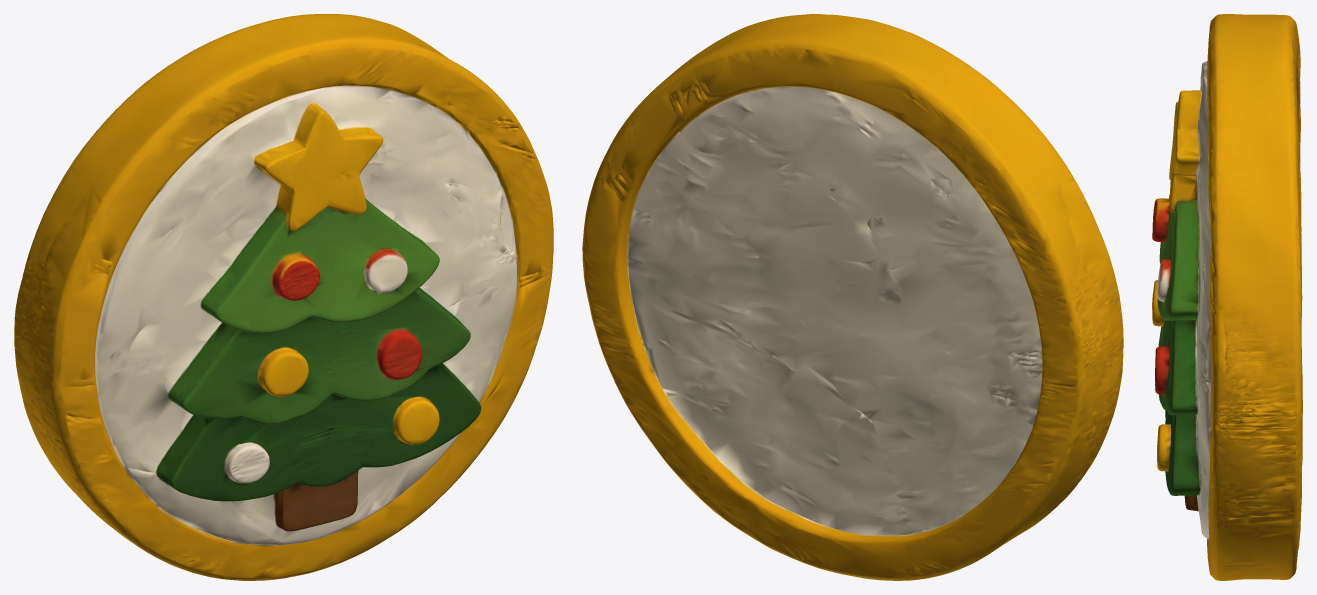
The model's file is vending-tree-button-web.glb.
The picture shows the model from 3 angles, left to right: view 1: azimuth 30°, elevation 25°; view 2: azimuth 150°, elevation 25°; view 3: azimuth 270°, elevation 25°; orthographic projection. The views are drawn at different scales.
Parts seen in each view (by area): view 1: tripo_node_c88e127c-297f-41a4-b4a9-a38bb910eb81; view 2: tripo_node_c88e127c-297f-41a4-b4a9-a38bb910eb81; view 3: tripo_node_c88e127c-297f-41a4-b4a9-a38bb910eb81.
Boxes of the visible parts, x1,y1,x2,y2 form: tripo_node_c88e127c-297f-41a4-b4a9-a38bb910eb81: [14, 14, 553, 580]; tripo_node_c88e127c-297f-41a4-b4a9-a38bb910eb81: [582, 14, 1123, 580]; tripo_node_c88e127c-297f-41a4-b4a9-a38bb910eb81: [1152, 14, 1302, 580].
Size of the model in its own units: 0.9798 by 0.9785 by 0.2599.
Materials: 1 (1 with a texture image).
